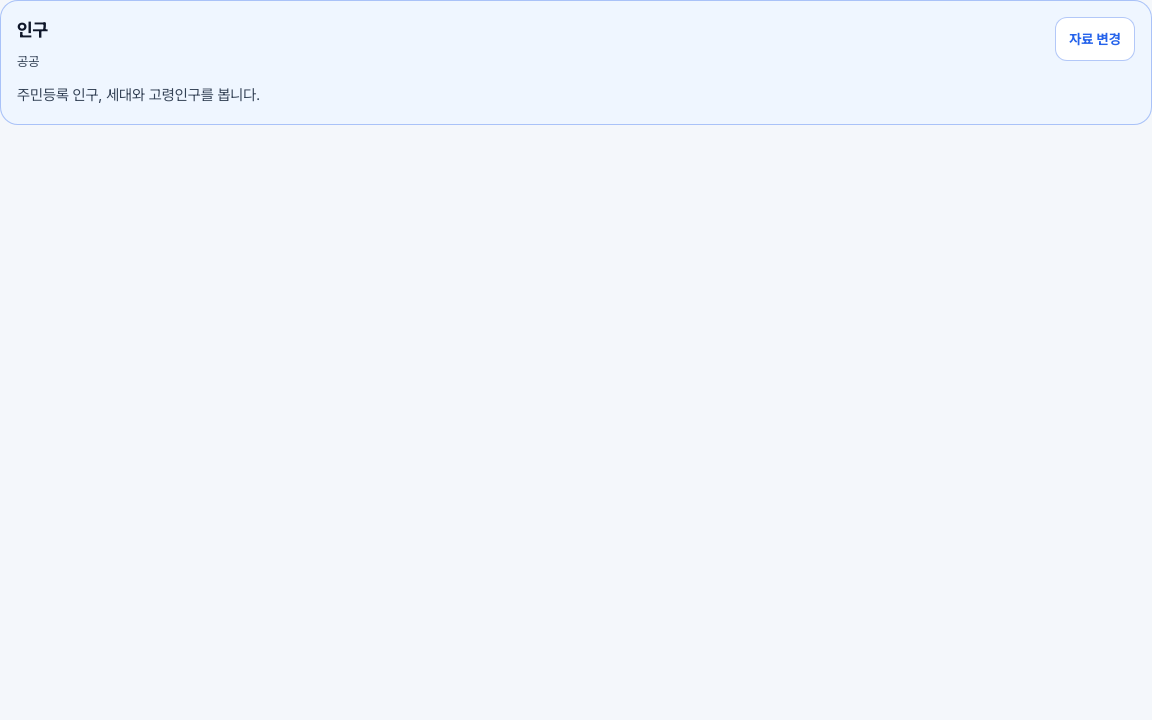
Test case: LayerSwitcher › 0건이면 무엇을 못 찾았는지 문장으로 말한다
The width and height of the screenshot is (1152, 720).
Step 1. Click the button "자료 변경" → coordinates (1095, 39), box left=1055, top=17, right=1135, bottom=61
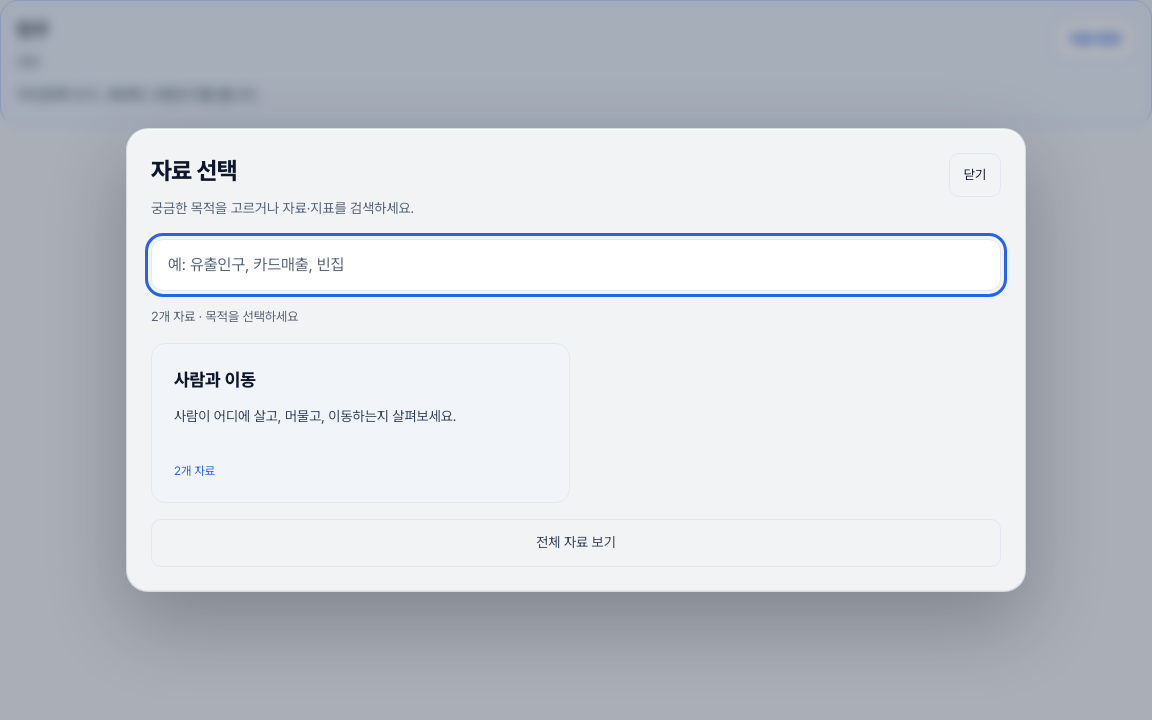
Step 2. Click the button "전체 자료 보기" → coordinates (576, 543), box left=151, top=519, right=1001, bottom=567
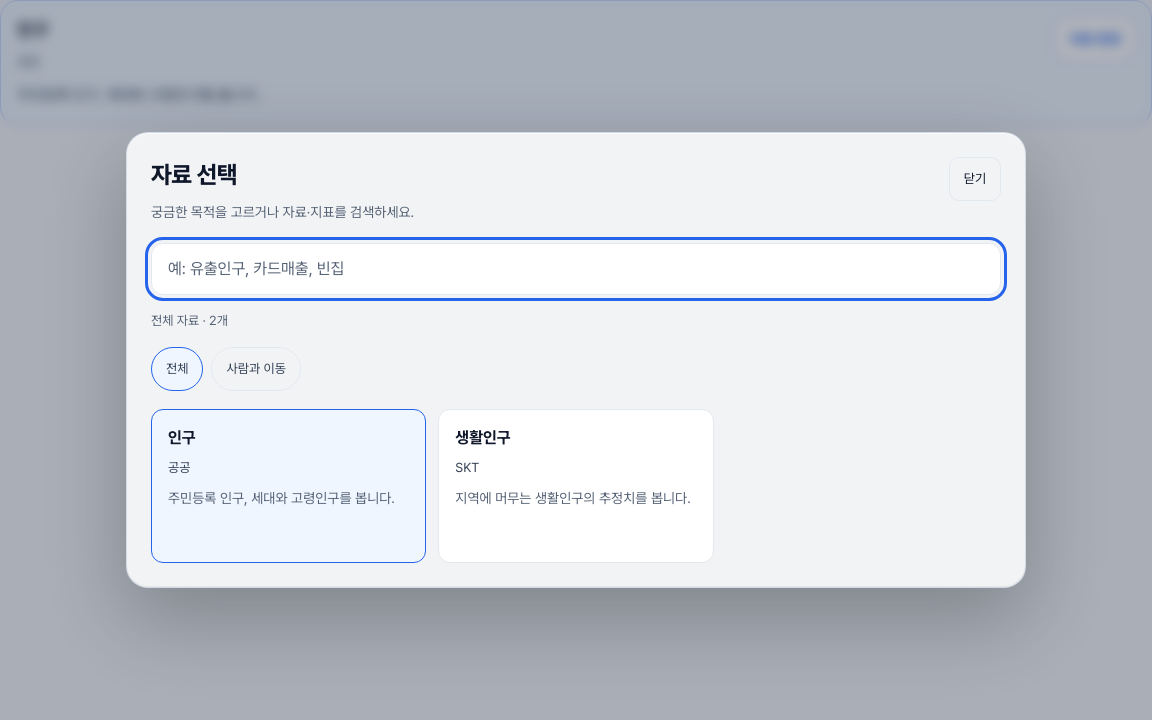
Step 3. Type "없는자료xyz" into the search field named "자료 검색" → coordinates (576, 269), box left=151, top=243, right=1001, bottom=295
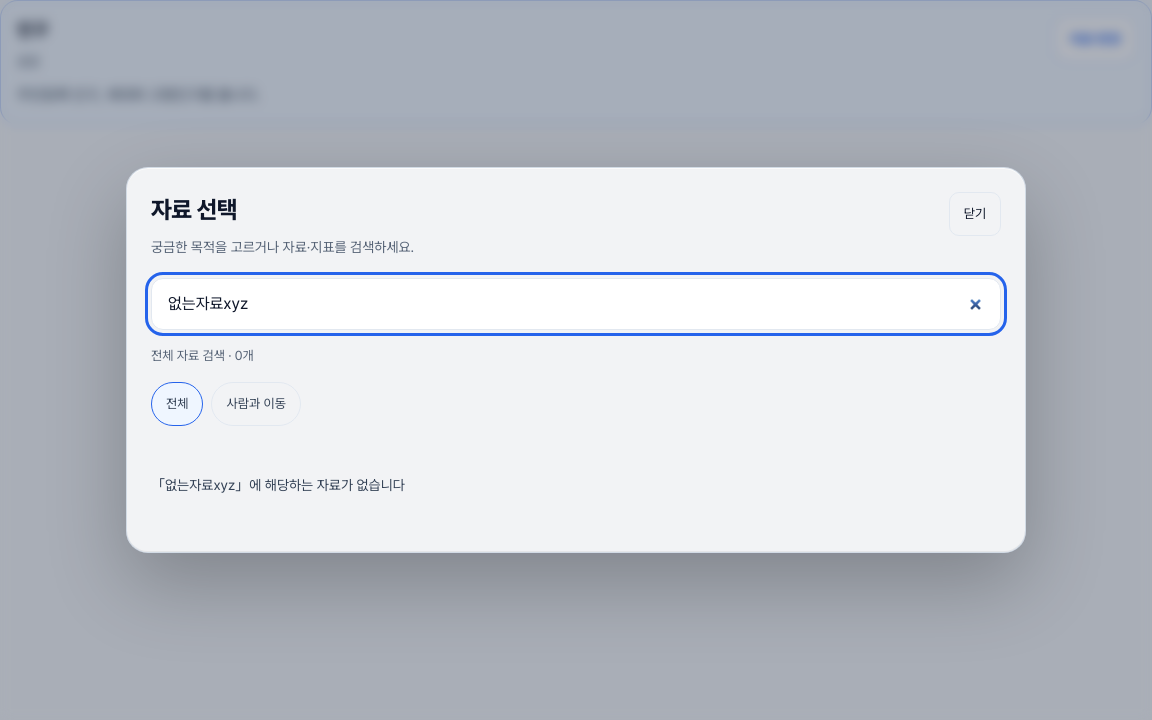
Result: the text with test id "layer-search-empty" reads "「없는자료xyz」에 해당하는 자료가 없습니다" at left=151, top=477, right=405, bottom=493
